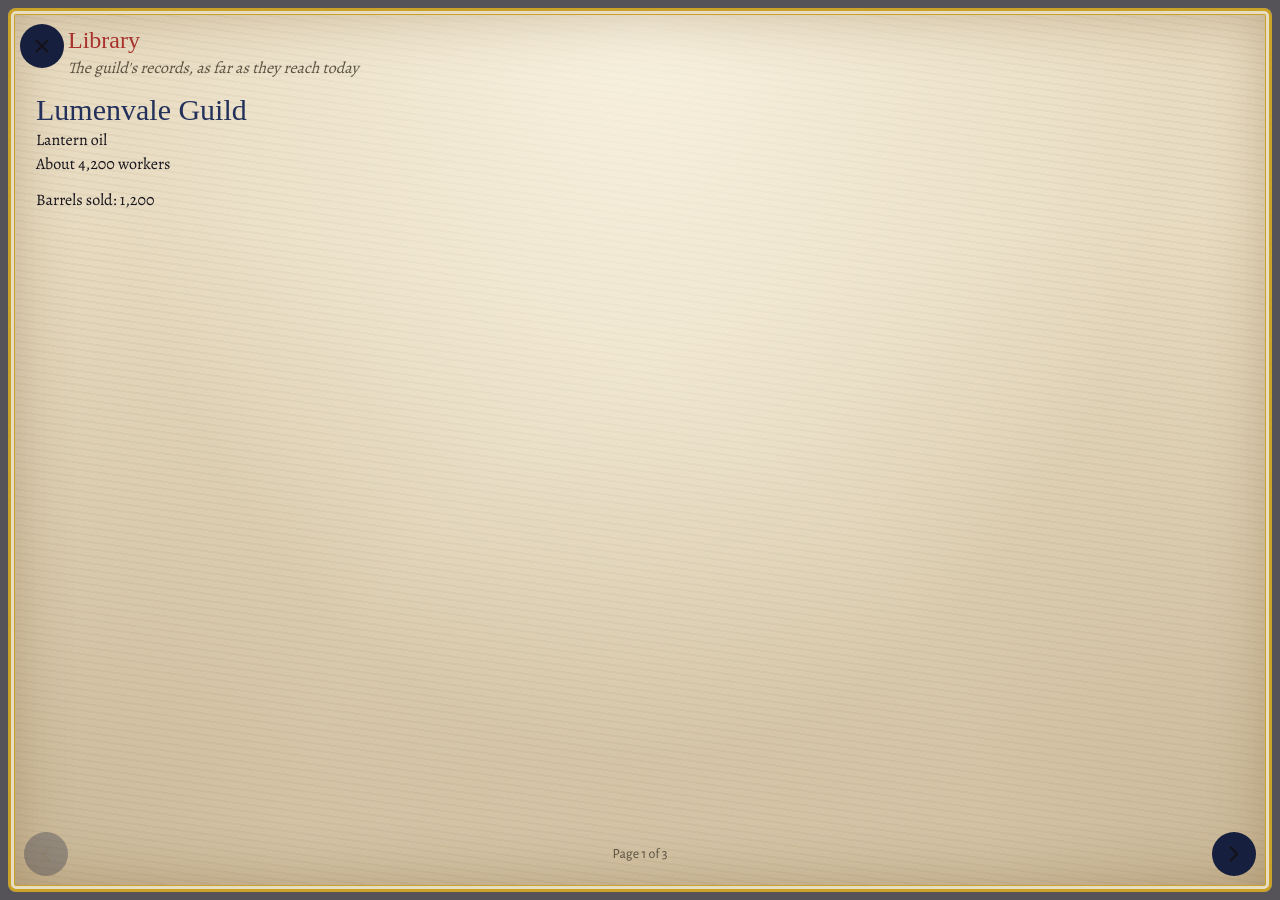
it: LibraryScroll › shows the company card first, then one page per document, with a page indicator
Expected: the text "Page 1 of 3" is shown, [612, 844, 668, 864]
Expected: the element named "Company card" shows "Lumenvale Guild", [36, 93, 247, 126]
Click the button named "Next page" at (1234, 854), box [1212, 832, 1256, 876]
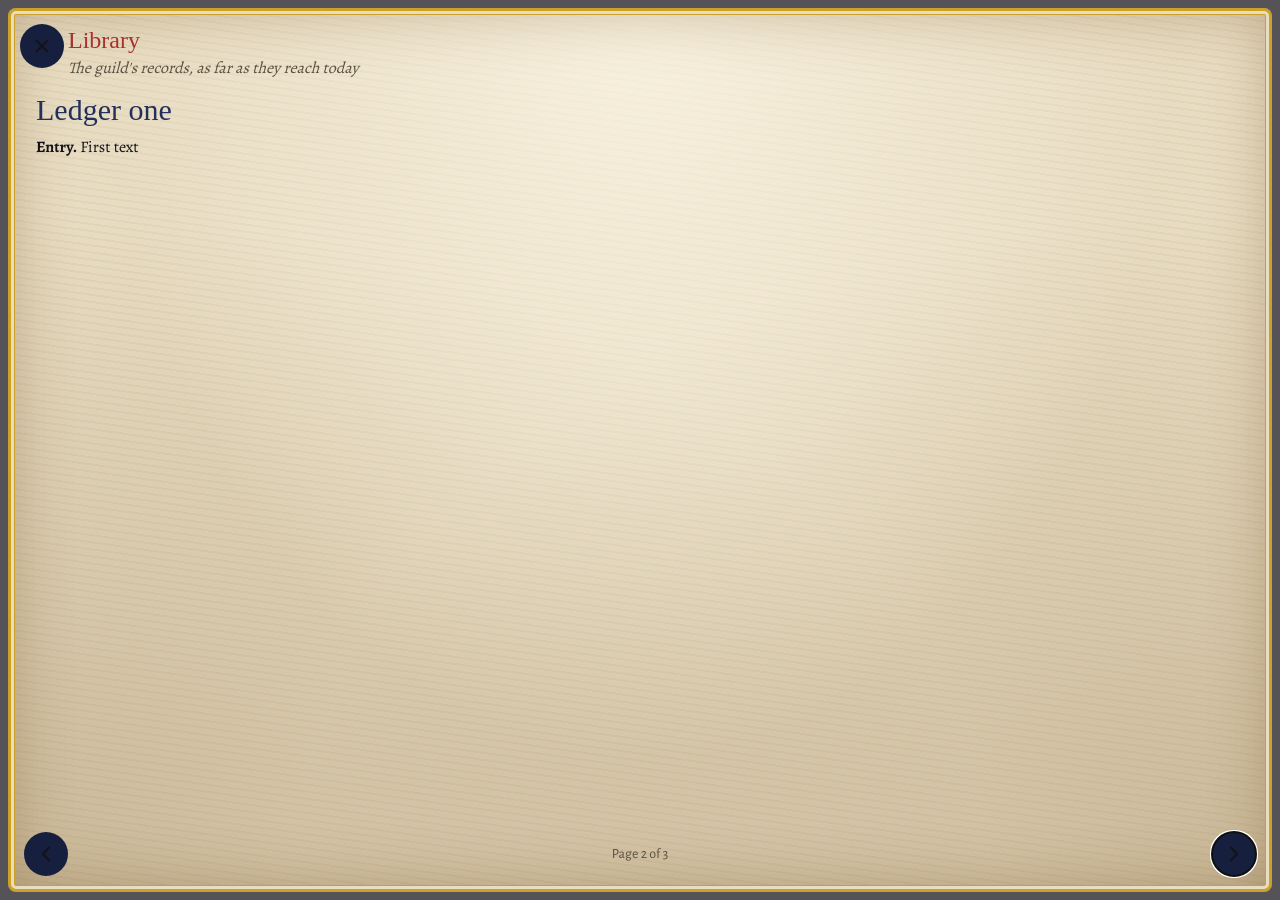
Expected: the text "Page 2 of 3" is shown, [612, 844, 668, 864]
Expected: the heading "Ledger one" is shown, [36, 93, 172, 126]
Expected: the heading "Lumenvale Guild" is gone
Click the button named "Next page" at (1234, 854), box [1212, 832, 1256, 876]
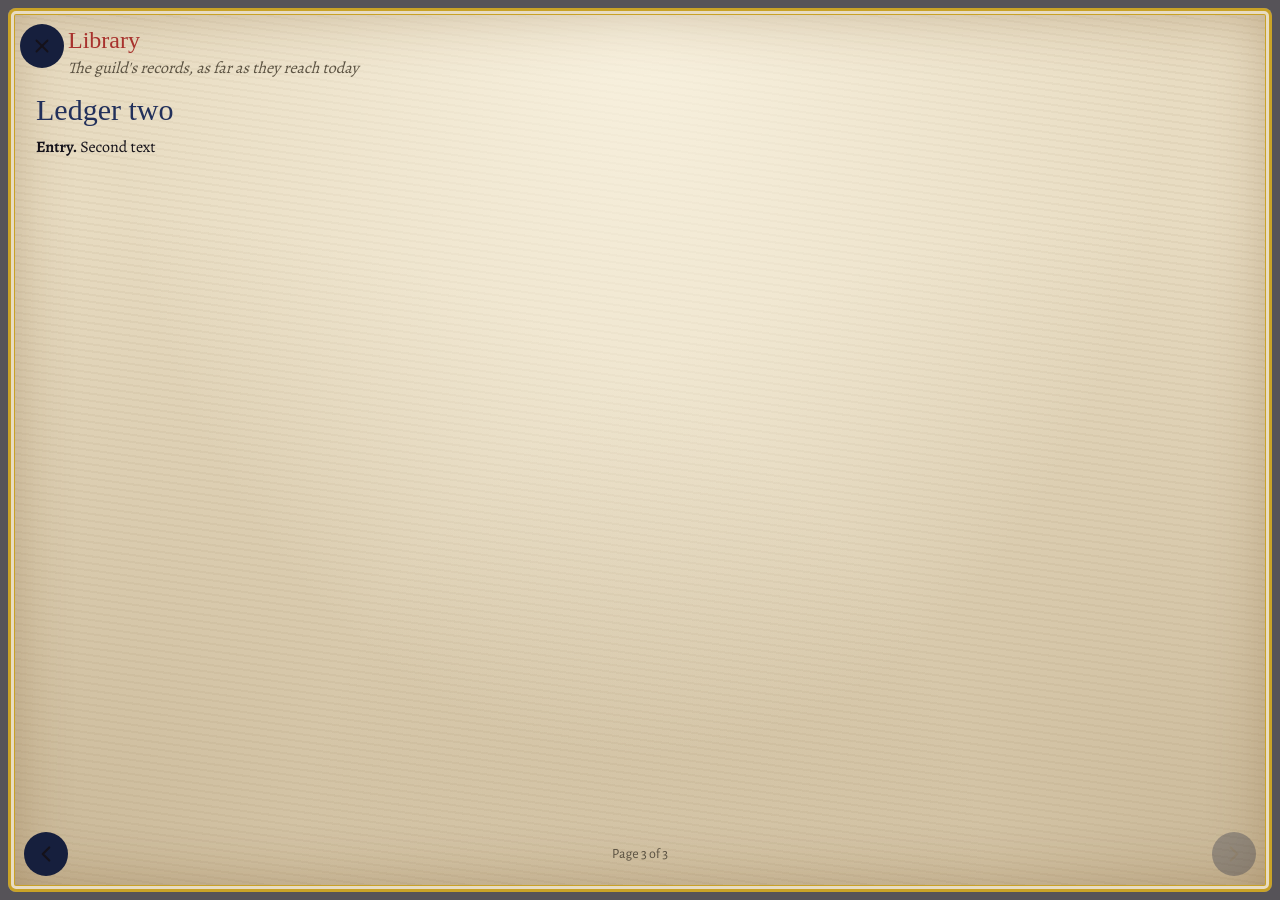
Expected: the heading "Ledger two" is shown, [36, 93, 174, 126]
Expected: the button named "Next page" is disabled, [1212, 832, 1256, 876]
